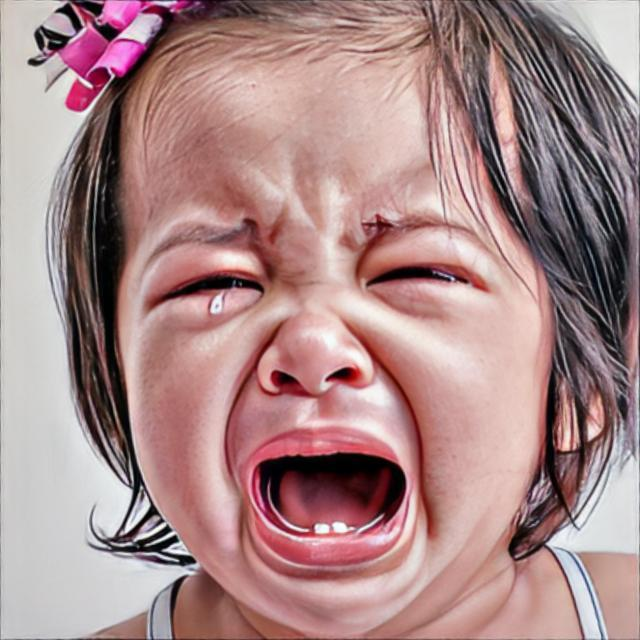sad: (115, 30, 560, 640)
